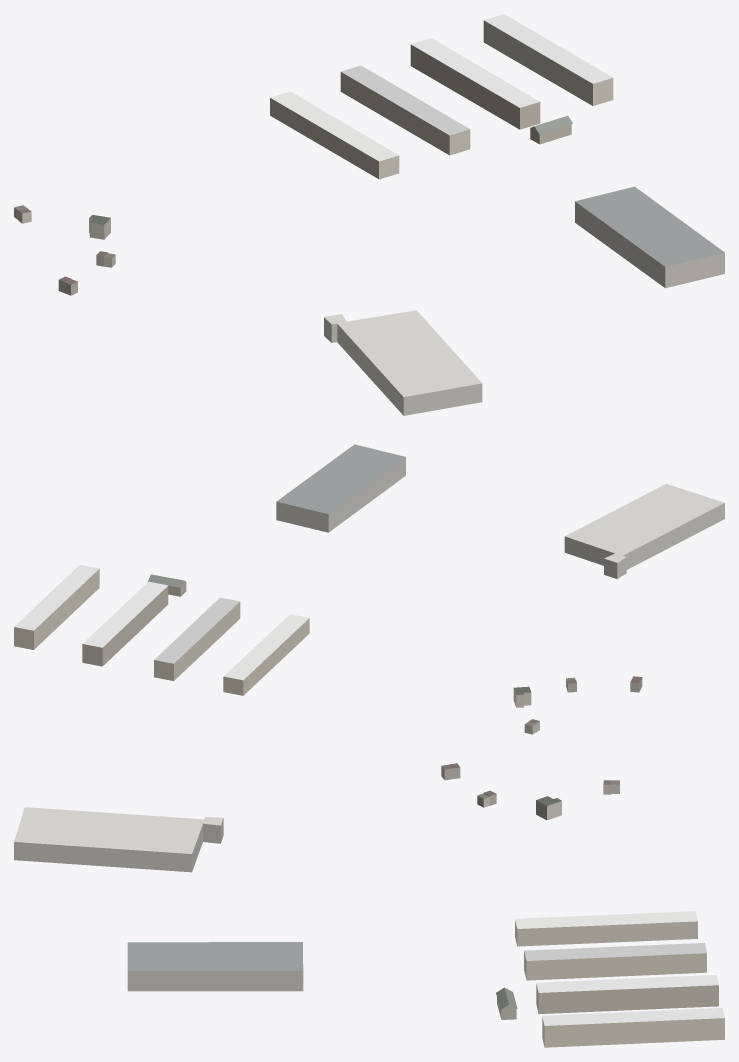
3 views of the same model, one above another, from view 1: azimuth 30°, elevation 25°; view 2: azimuth 150°, elevation 25°; view 3: azimuth 270°, elevation 25° (orthographic). The views are drawn at different scales.
Visible parts, largest first — view 1: tuile; view 2: tuile; view 3: tuile.
Boxes of the visible parts, x1,y1,x2,y2 form: tuile: (14, 14, 724, 415); tuile: (14, 444, 724, 734); tuile: (14, 763, 724, 1047).
Bounding box in the file's own units: 227 × 14.86 × 239.
